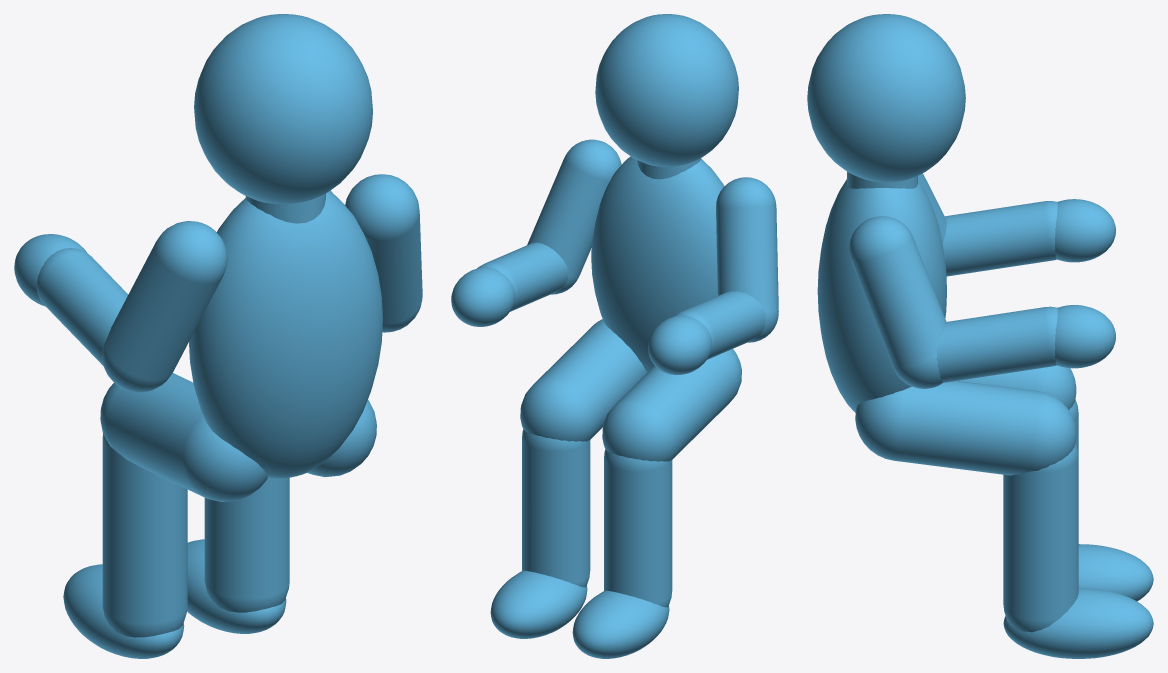
The model's file is seated-rower.glb.
3 views of the same model, side by side, from view 1: azimuth 30°, elevation 25°; view 2: azimuth 150°, elevation 25°; view 3: azimuth 270°, elevation 25° (orthographic). The views are drawn at different scales.
Parts seen in each view (by area): view 1: Torso, Head, LeftShin, LeftUpperArm, LeftThigh, RightShin, RightUpperArm, LeftForearm, LeftFoot, RightFoot, RightThigh, LeftHand (+1 smaller); view 2: Torso, Head, LeftShin, RightShin, LeftThigh, RightThigh, LeftUpperArm, RightUpperArm, RightFoot, LeftFoot, LeftForearm, RightForearm (+3 smaller); view 3: Head, RightThigh, Torso, RightShin, RightUpperArm, RightForearm, LeftForearm, RightFoot, RightHand, LeftHand, LeftFoot, LeftThigh (+2 smaller).
Boxes of the visible parts, x1,y1,x2,y2 form: Torso: (189, 191, 382, 478); Head: (194, 14, 372, 204); LeftShin: (102, 433, 187, 637); LeftUpperArm: (102, 221, 227, 392); LeftThigh: (100, 373, 267, 501); RightShin: (204, 478, 289, 612); RightUpperArm: (345, 174, 422, 332); LeftForearm: (36, 248, 128, 365); LeftFoot: (63, 564, 184, 658); RightFoot: (187, 539, 286, 633); RightThigh: (307, 400, 376, 477); LeftHand: (14, 234, 87, 306); Torso: (591, 156, 724, 372); Head: (595, 14, 738, 166); LeftShin: (604, 449, 672, 607); RightShin: (522, 429, 590, 587); LeftThigh: (602, 349, 741, 461); RightThigh: (520, 319, 646, 441); LeftUpperArm: (716, 177, 778, 342); RightUpperArm: (527, 139, 621, 294); RightFoot: (490, 570, 587, 638); LeftFoot: (572, 590, 669, 658); LeftForearm: (674, 291, 765, 359); RightForearm: (477, 242, 568, 311); Head: (807, 14, 965, 182); RightThigh: (855, 381, 1076, 475); Torso: (817, 179, 946, 412); RightShin: (1003, 443, 1078, 632); RightUpperArm: (849, 216, 946, 388); RightForearm: (936, 306, 1057, 382); LeftForearm: (942, 201, 1057, 276); RightFoot: (1003, 588, 1153, 658); RightHand: (1055, 305, 1115, 368); LeftHand: (1055, 199, 1115, 262); LeftFoot: (1078, 544, 1153, 601); LeftThigh: (957, 365, 1076, 409).
Bounding box in the file's own units: 0.76 × 1.61 × 0.83.
